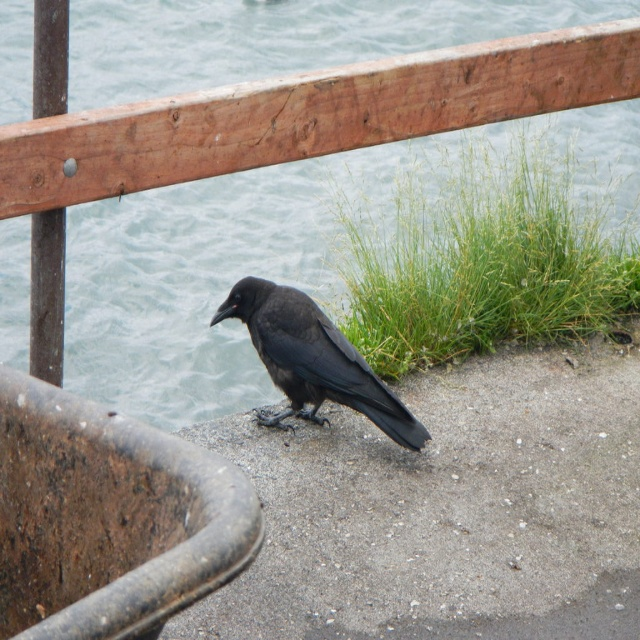Raven: (209, 275, 432, 454)
